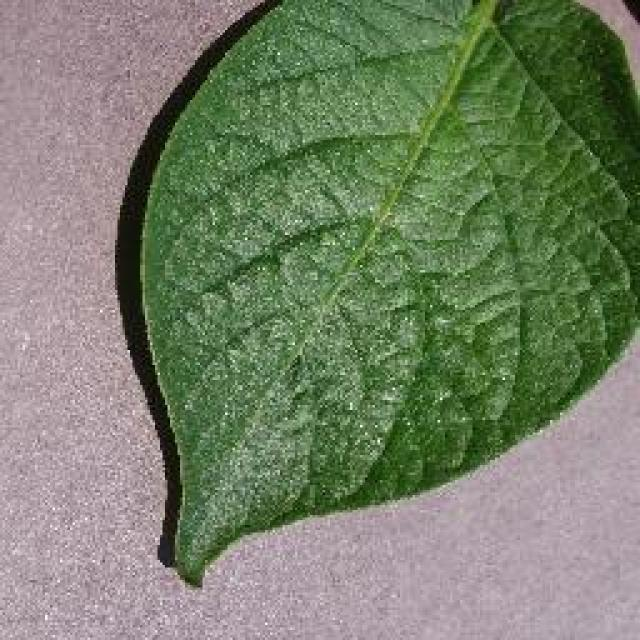Potato___healthy: (138, 0, 638, 588)
